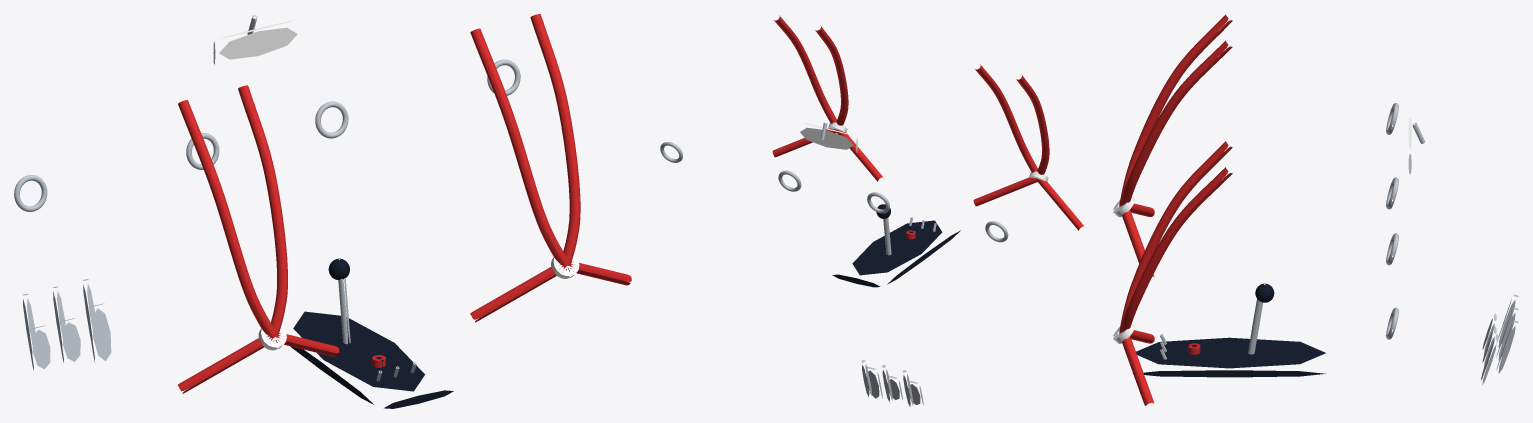
Rendered from cockpit_interior.glb.
The picture shows the model from 3 angles, left to right: view 1: azimuth 30°, elevation 25°; view 2: azimuth 150°, elevation 25°; view 3: azimuth 270°, elevation 25°; orthographic projection. The views are drawn at different scales.
Visible parts, largest first — view 1: SixPoint_Harness_Passenger, Center_Tunnel_Switch_Console, Drilled_Aluminum_Pedal_Box, SixPoint_Harness_Driver; view 2: SixPoint_Harness_Passenger, Center_Tunnel_Switch_Console, Drilled_Aluminum_Pedal_Box, SixPoint_Harness_Driver; view 3: SixPoint_Harness_Passenger, Center_Tunnel_Switch_Console, Drilled_Aluminum_Pedal_Box, SixPoint_Harness_Driver.
Boxes of the visible parts, <box> form: SixPoint_Harness_Passenger: <box>178,14,631,393</box>; Center_Tunnel_Switch_Console: <box>290,258,453,408</box>; Drilled_Aluminum_Pedal_Box: <box>14,15,520,381</box>; SixPoint_Harness_Driver: <box>213,20,579,350</box>; SixPoint_Harness_Passenger: <box>772,15,1083,230</box>; Center_Tunnel_Switch_Console: <box>832,204,960,287</box>; Drilled_Aluminum_Pedal_Box: <box>660,122,1008,406</box>; SixPoint_Harness_Driver: <box>800,122,1048,182</box>; SixPoint_Harness_Passenger: <box>1119,14,1232,405</box>; Center_Tunnel_Switch_Console: <box>1136,283,1325,377</box>; Drilled_Aluminum_Pedal_Box: <box>1160,103,1518,384</box>; SixPoint_Harness_Driver: <box>1113,117,1411,343</box>.
Size of the model in its own units: 1.18 by 0.8552 by 0.9212.
